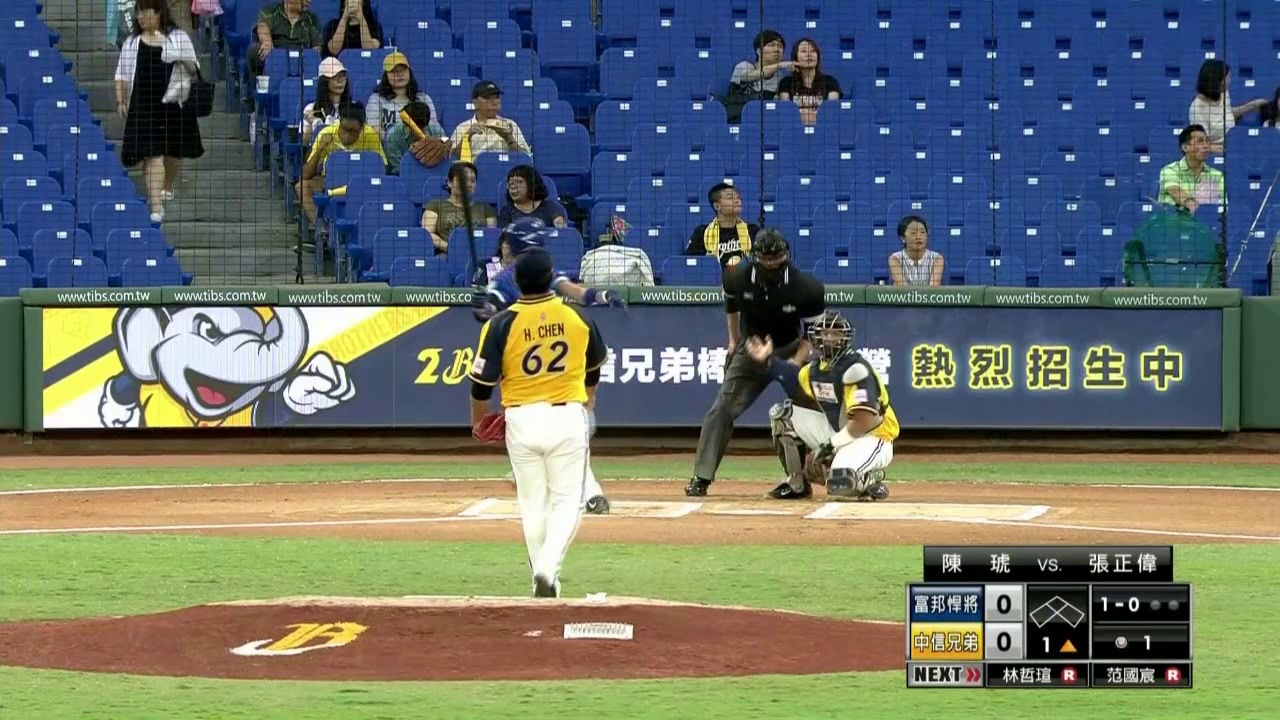base: (1029, 589, 1089, 632)
bat: (456, 161, 480, 301)
out: (1147, 595, 1184, 616)
score1: (989, 588, 1019, 621)
score2: (987, 628, 1023, 659)
session: (1027, 635, 1085, 658)
strikeball: (1095, 590, 1145, 618)
total: (1106, 631, 1155, 656)
